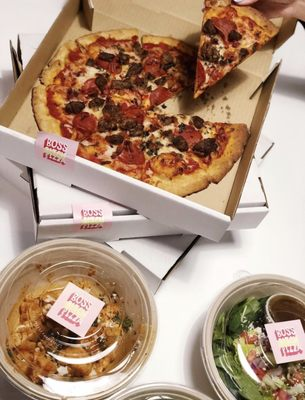sushi: (2, 238, 157, 400), (200, 273, 305, 400)
